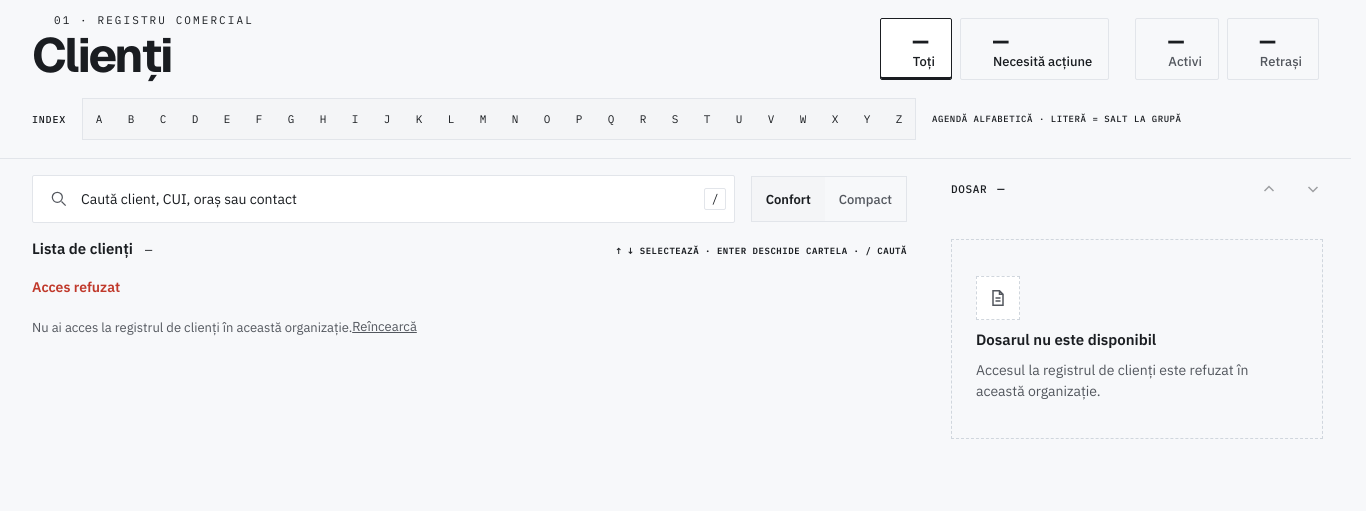
Test: ClientsPage › retries after a denied registry read
This screenshot has width=1366, height=511.
Expected: the text "Acces refuzat" is shown, [32,277,120,298]
Click the button "Reîncearcă": (384, 328) [352,306,417,350]
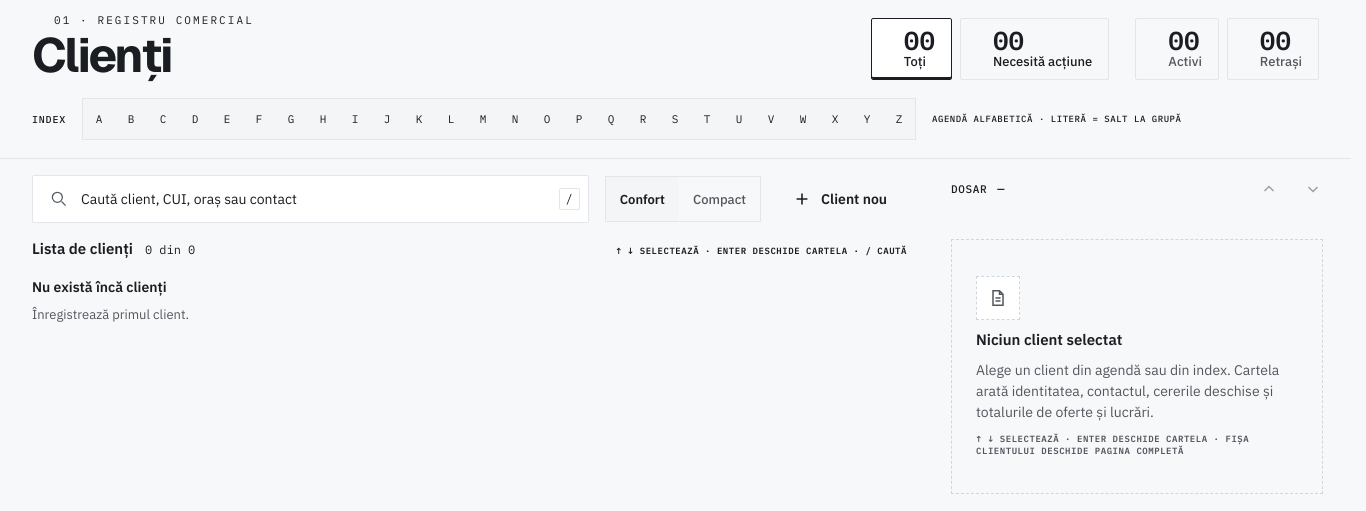
Expected: the text "Nu există încă clienți" is shown, [32,277,167,298]
